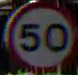Speed limit: (5, 1, 77, 68)
